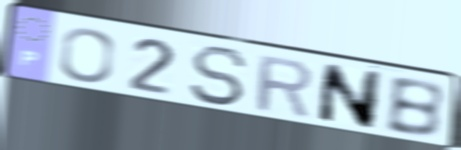2: (126, 38, 179, 98)
B: (382, 75, 447, 141)
N: (315, 60, 385, 132)
O: (56, 27, 118, 85)
R: (254, 53, 315, 121)
S: (187, 43, 251, 109)
